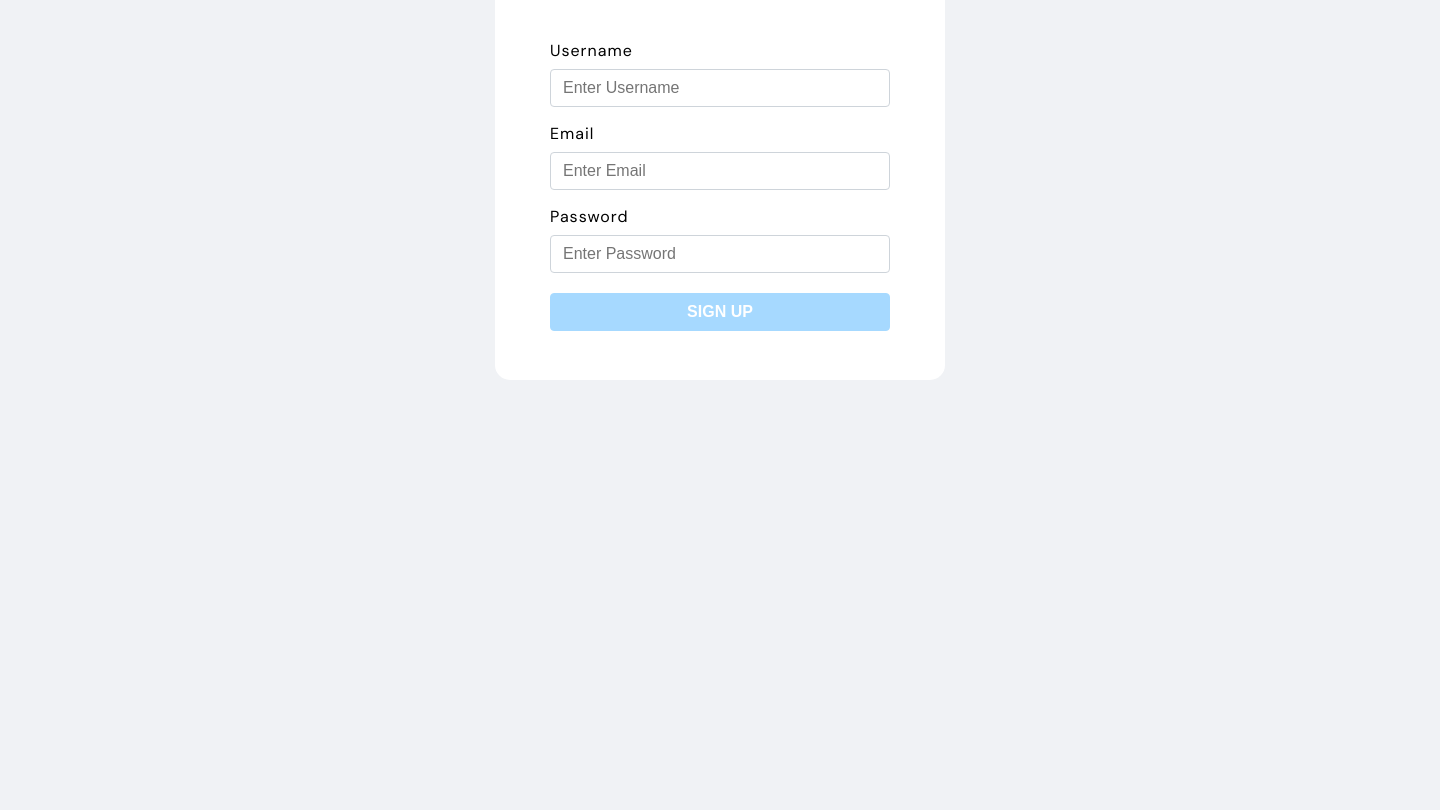
it: Register Page › Button Element › Should change label when clicked button
The width and height of the screenshot is (1440, 810).
Type "yorman" into the field labelled "Username" at point(720, 88), box [550, 69, 890, 107]
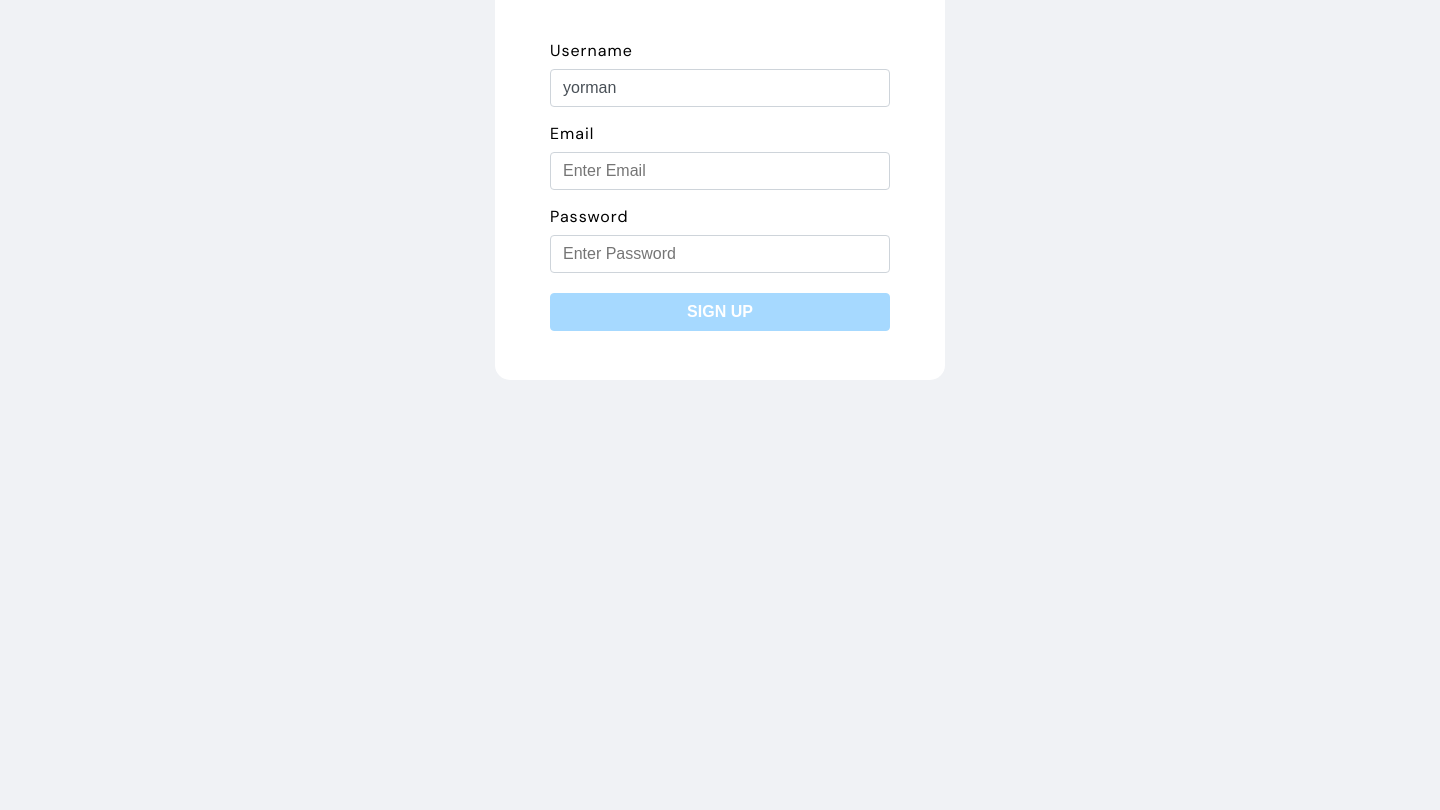
Type "yordev@gmail.com" into the field labelled "Email" at point(720, 171), box [550, 152, 890, 190]
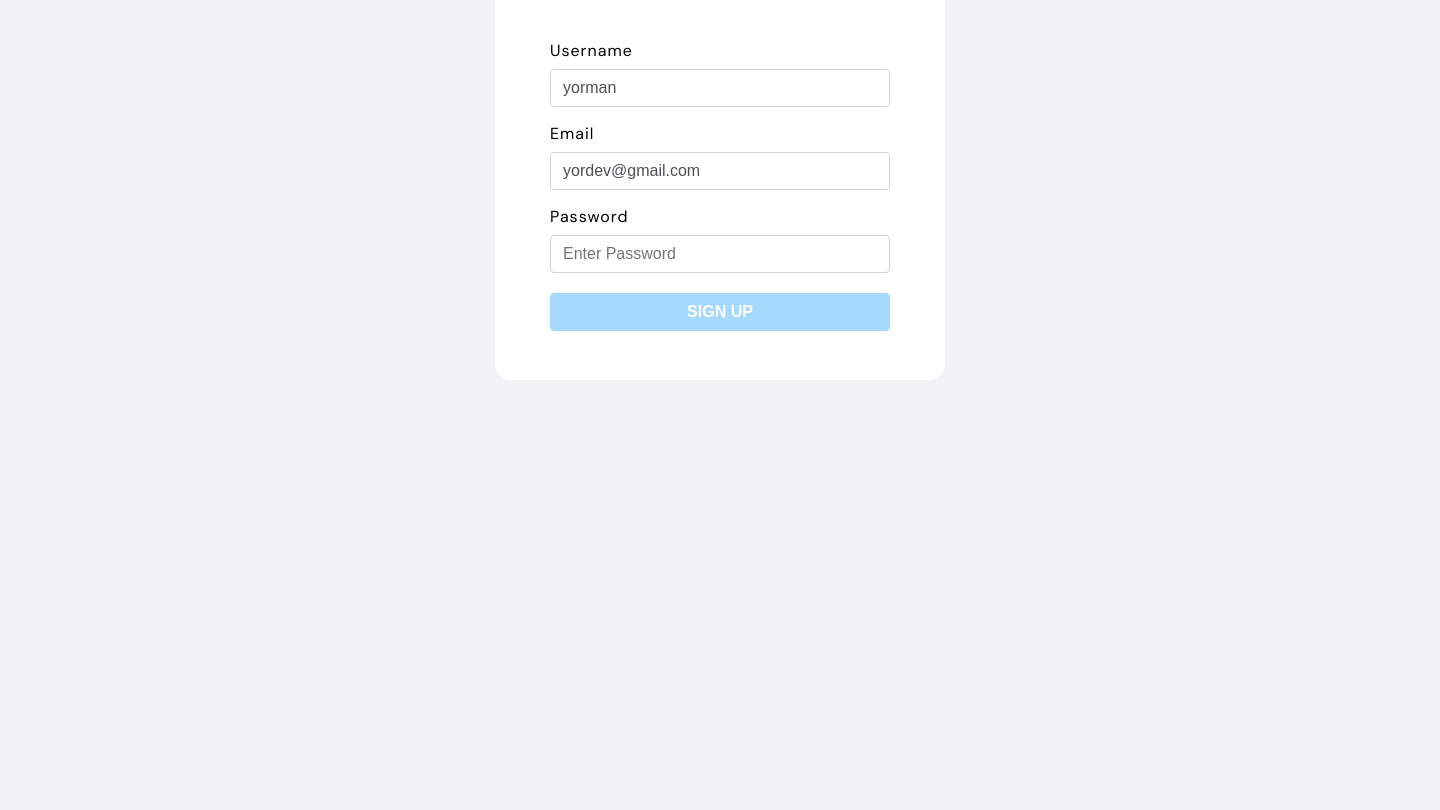
Type "yordev" into the password field labelled "Password" at point(720, 254), box [550, 235, 890, 273]
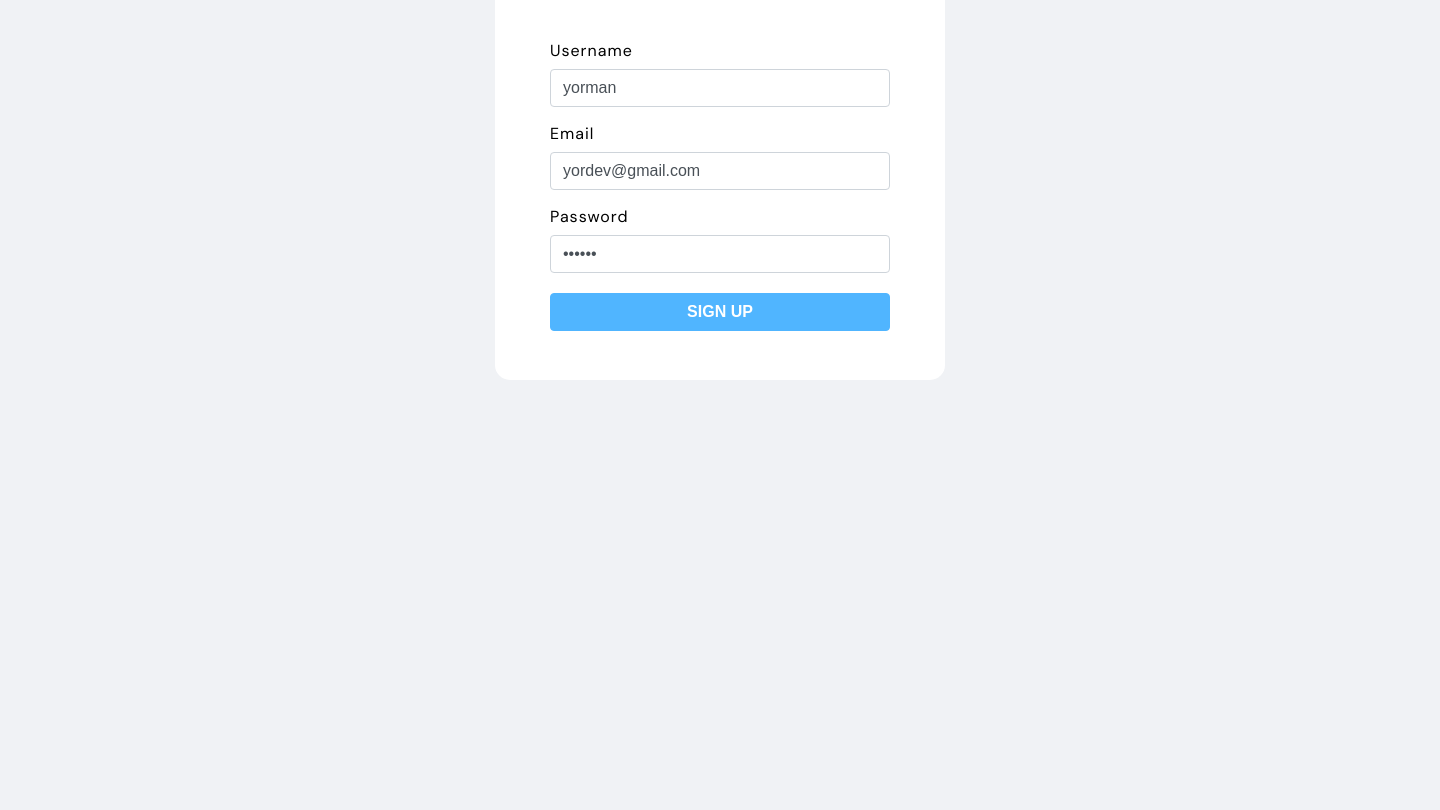
Click the button at point(720, 312), box [550, 293, 890, 331]
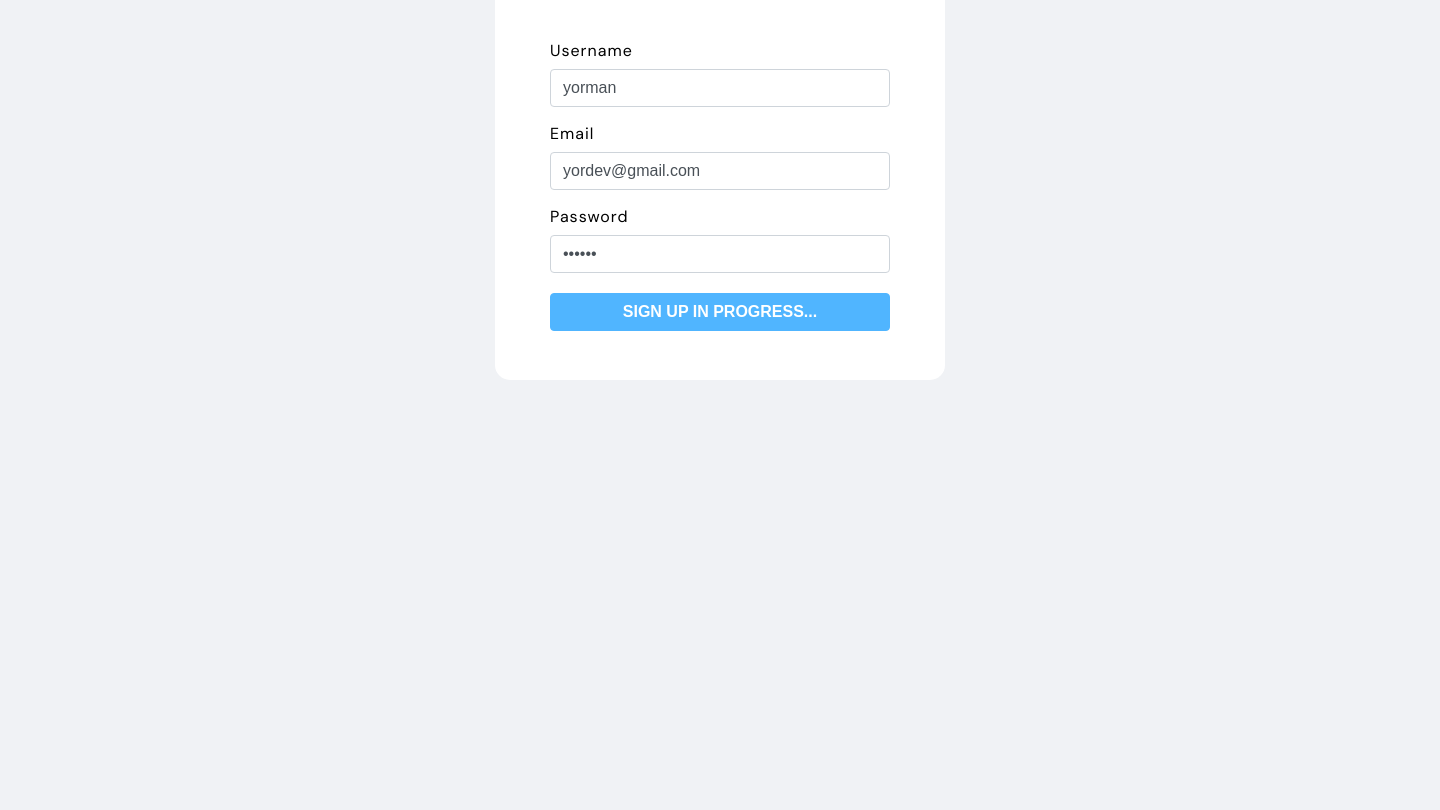
Check: the button reads "SIGN UP IN PROGRESS...", box [550, 293, 890, 331]
